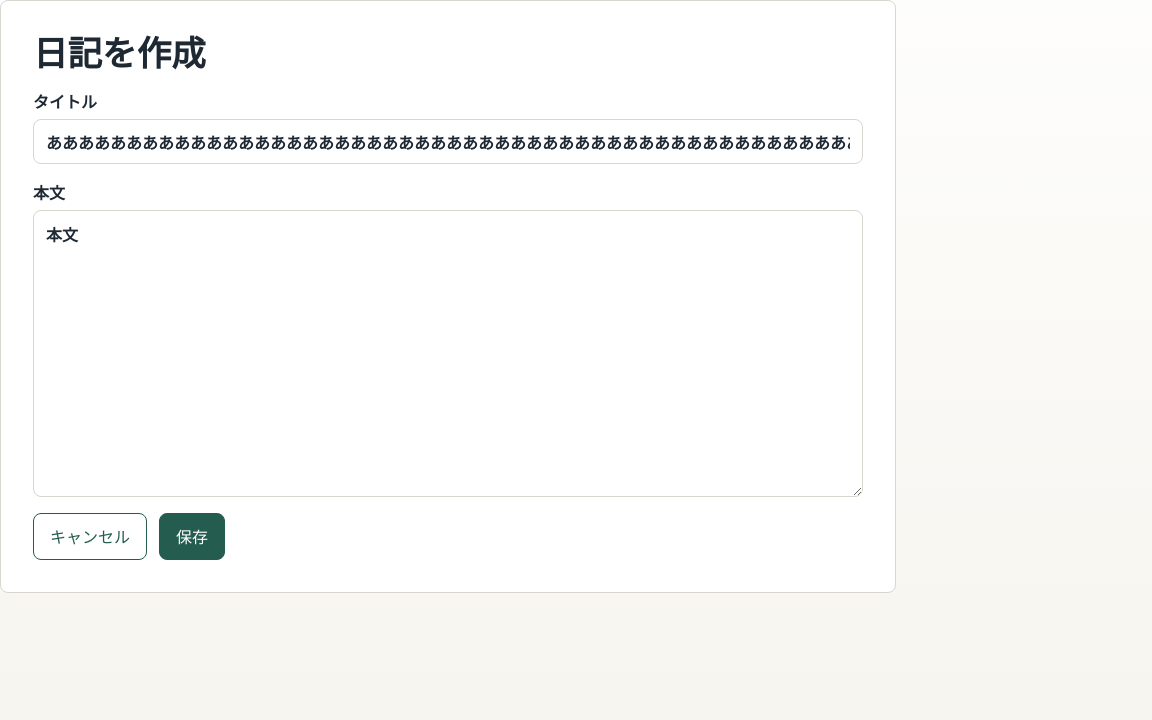
Test case: DiaryEditorForm › shows a title length error when title exceeds 100 characters
This screenshot has width=1152, height=720.
Click the button "保存" at point(192, 536), box [159,513,225,560]
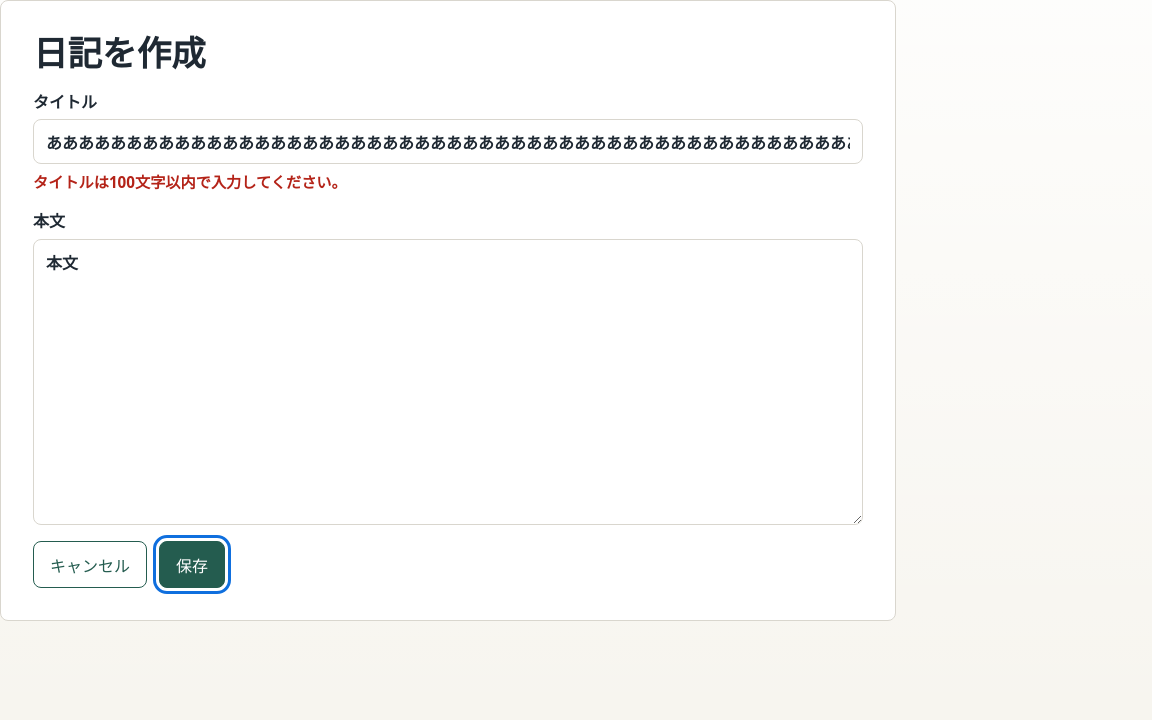
Now the text "タイトルは100文字以内で入力してください。" is shown, box [33,172,347,192]
